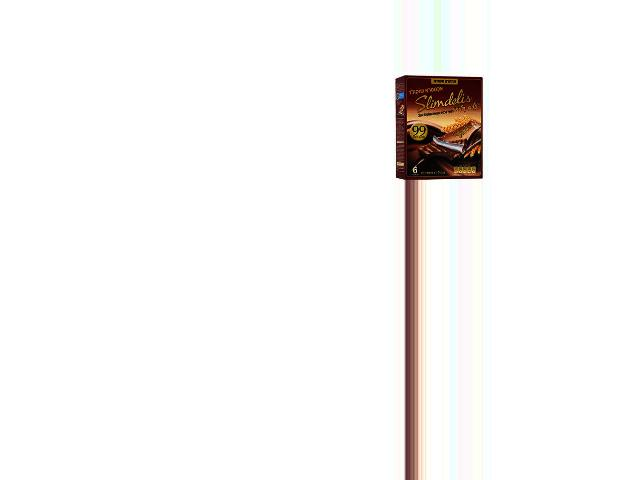chocolate: (390, 74, 492, 180)
